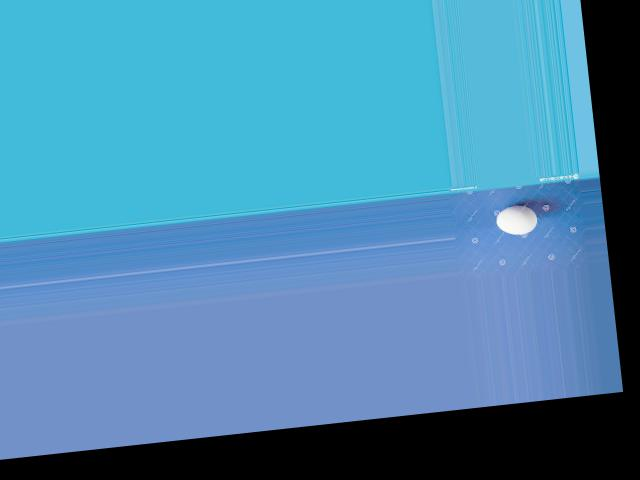egg: (494, 203, 538, 236)
